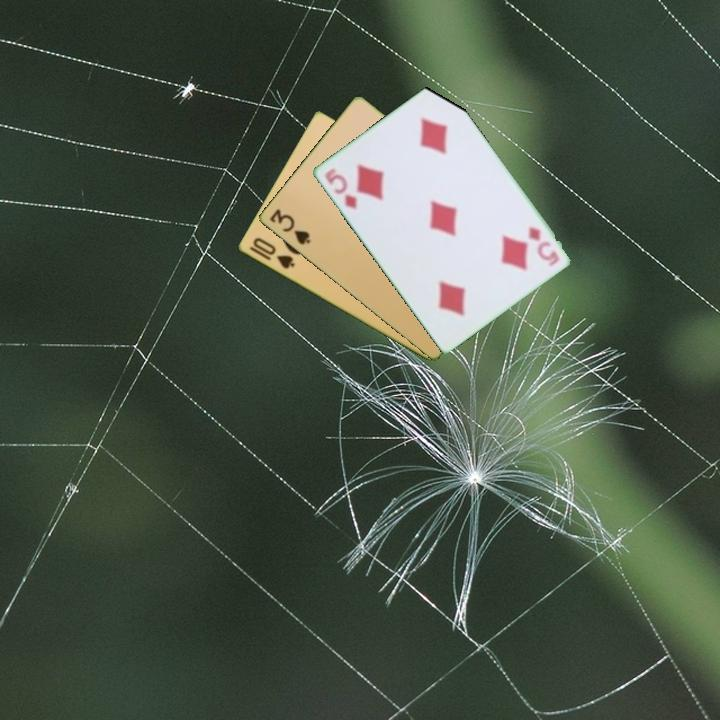10s: (249, 234, 298, 272)
3s: (265, 205, 313, 248)
5d: (321, 164, 359, 213), (524, 222, 557, 264)
